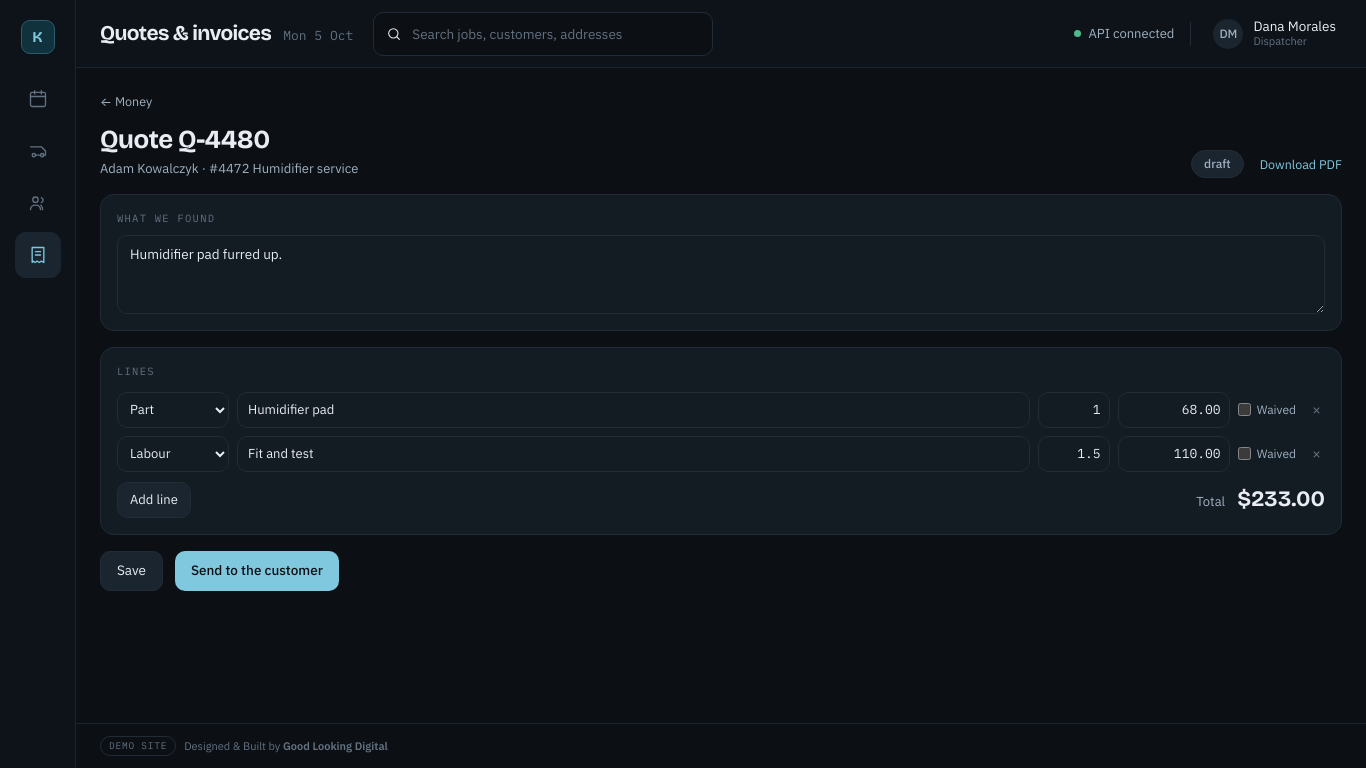
Scenario: writing a quote › totals the lines as they are typed, in whole cents
The image size is (1366, 768).
Expected: the heading "Quote Q-4480" is shown, [100,124,270,155]
Expected: the text with test id "total" reads "$233.00", [1237,486,1325,512]
Replace the text in the field named "Line 1 price" with "80.25" at (1174, 410), box [1118,392,1230,428]
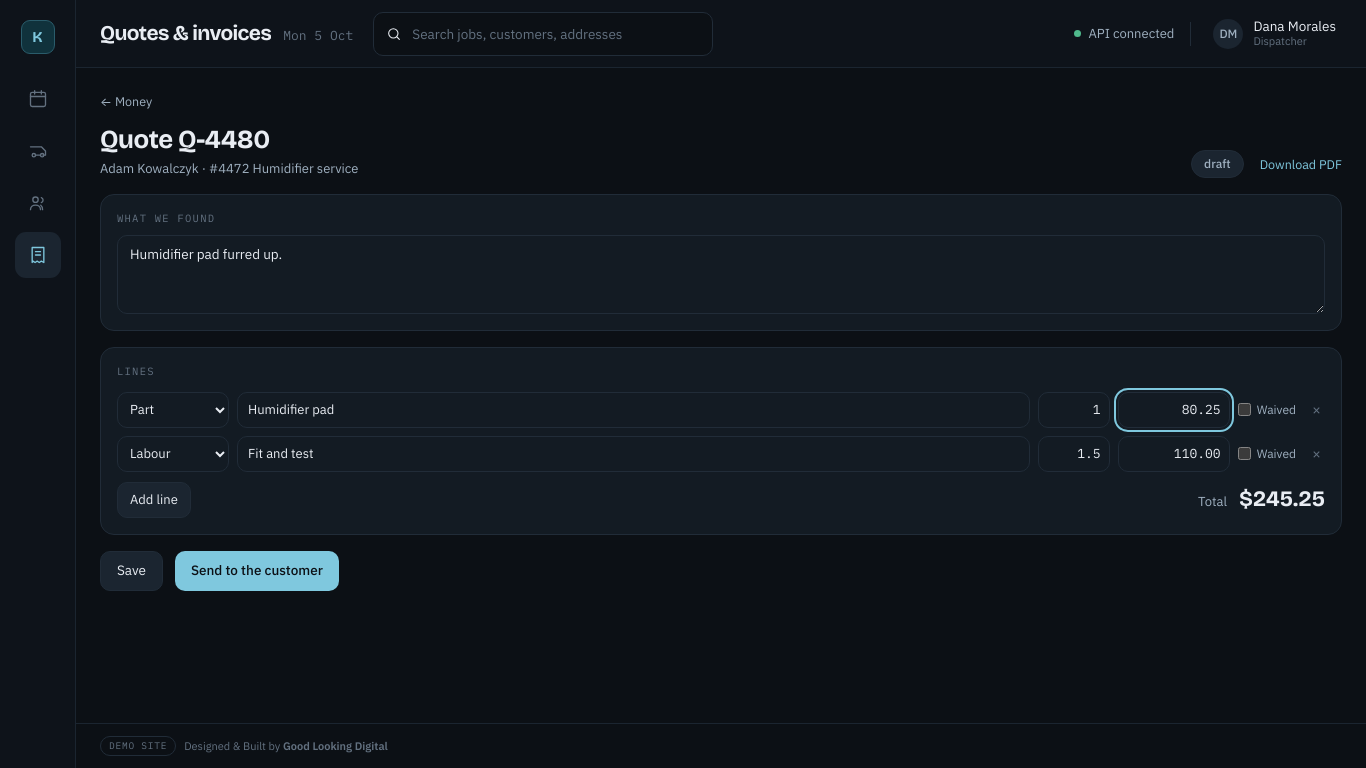
Expected: the text with test id "total" reads "$245.25", [1239,486,1325,512]
